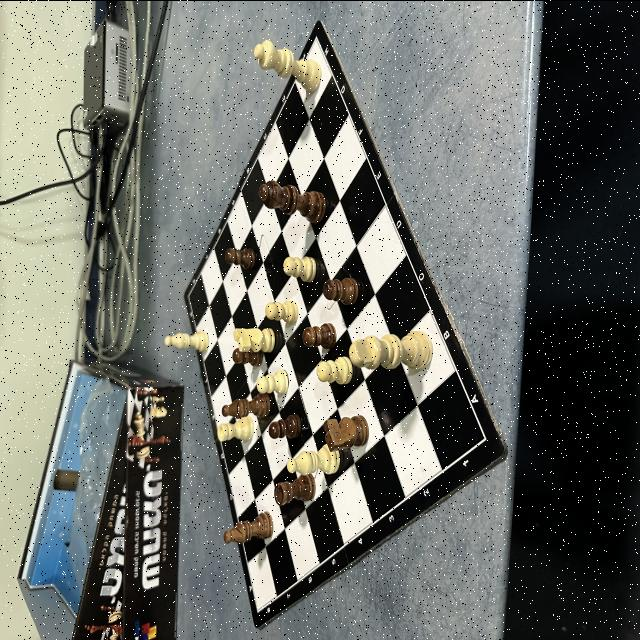Black-Bishop: (224, 509, 274, 544), (222, 393, 270, 418)
Black-Knight: (323, 414, 369, 452)
Black-Pawn: (322, 276, 358, 306), (302, 322, 336, 348), (268, 412, 300, 438), (224, 246, 256, 268), (232, 346, 264, 366)
Black-Queen: (258, 179, 326, 223)
Black-Rook: (274, 474, 316, 504)
White-Bishop: (286, 448, 341, 474), (164, 330, 209, 352)
White-King: (348, 329, 434, 369)
White-Knight: (233, 326, 276, 352)
White-Pawn: (316, 358, 353, 384), (283, 255, 317, 282), (264, 298, 298, 324), (256, 368, 288, 394)
White-Queen: (254, 38, 322, 90)
White-Rook: (217, 416, 255, 442)
